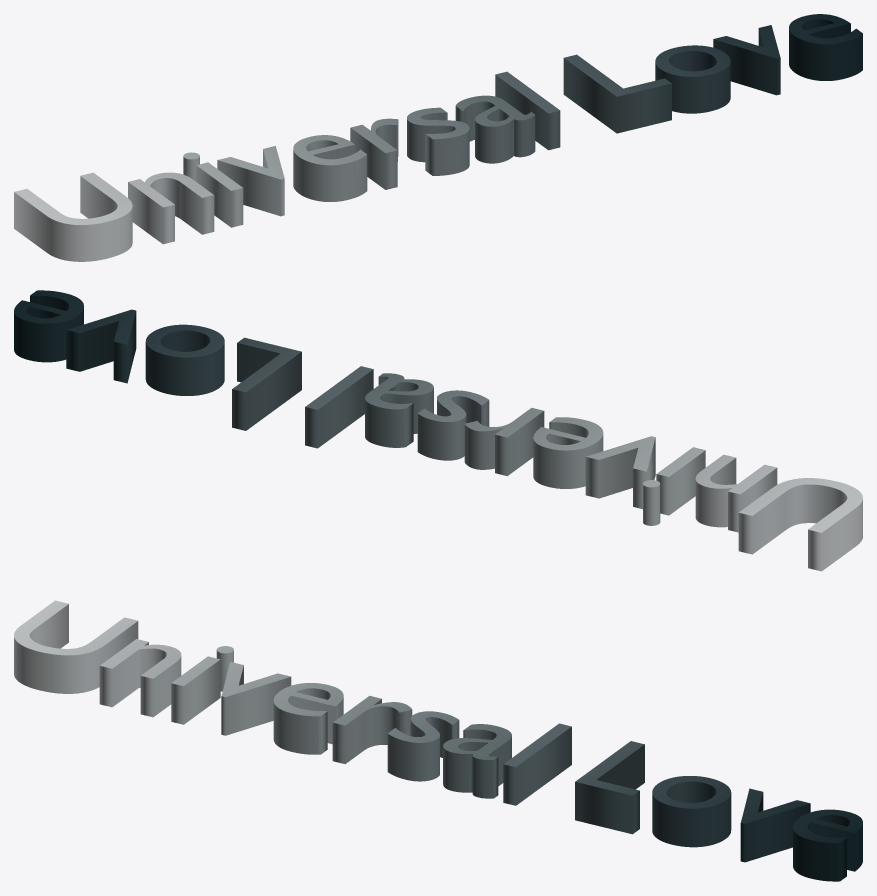
3 renders of one model, top to bottom at view 1: azimuth 30°, elevation 25°; view 2: azimuth 150°, elevation 25°; view 3: azimuth 330°, elevation 25°, orthographic. The views are drawn at different scales.
Visible parts, largest first — view 1: 文字.003; view 2: 文字.003; view 3: 文字.003.
Part boxes in pixels (x1,y1,x2,y2): 文字.003: [14, 14, 862, 261]; 文字.003: [14, 290, 862, 571]; 文字.003: [14, 600, 862, 881].
Size of the model in its own units: 5.91 by 0.26 by 0.691.
1 material, 1 textured.
